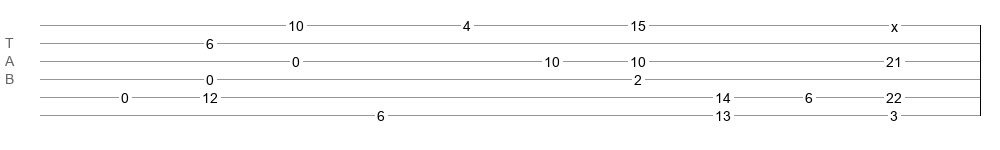0: (121, 90, 129, 100), (206, 72, 214, 82), (292, 54, 300, 64)
10: (288, 18, 304, 28), (544, 54, 560, 64), (630, 54, 646, 64)
12: (202, 90, 218, 100)
13: (715, 108, 731, 118)
14: (715, 90, 731, 100)
15: (630, 18, 646, 28)
2: (634, 72, 642, 82)
21: (886, 54, 902, 64)
22: (886, 90, 902, 100)
3: (890, 108, 898, 118)
4: (463, 18, 471, 28)
6: (206, 36, 214, 46), (377, 108, 385, 118), (805, 90, 813, 100)
x: (891, 19, 898, 27)
